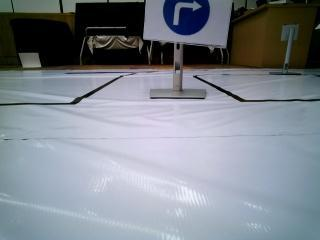right: (146, 1, 224, 42)
